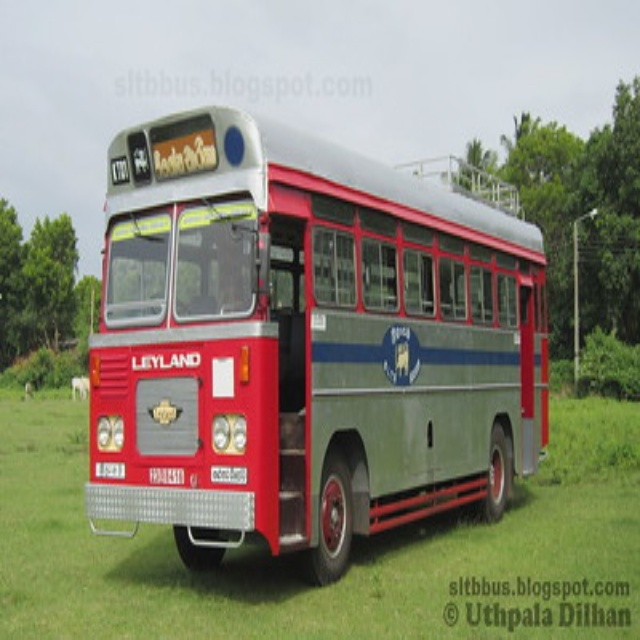Bus: (83, 103, 552, 584)
